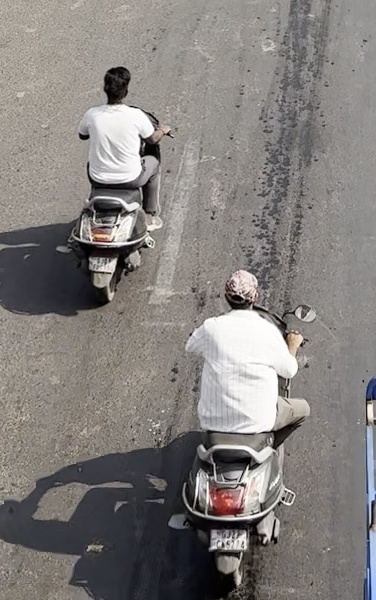BikeWithRider: (171, 249, 333, 600), (59, 62, 178, 303)
NoHelmet: (215, 263, 262, 319), (100, 64, 129, 105)
